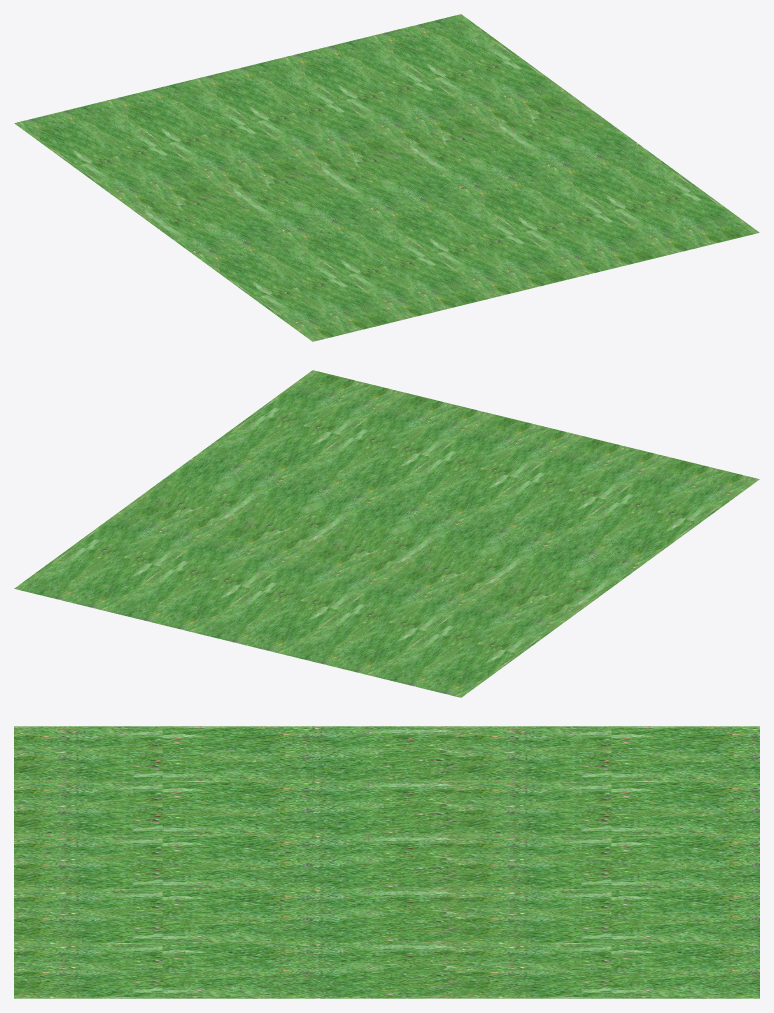
Rendered from GRASS.fbx.
3 renders of one model, top to bottom at view 1: azimuth 30°, elevation 25°; view 2: azimuth 150°, elevation 25°; view 3: azimuth 270°, elevation 25°, orthographic. The views are drawn at different scales.
Parts seen in each view (by area): view 1: pPlane1; view 2: pPlane1; view 3: pPlane1.
Boxes of the visible parts, x1,y1,x2,y2 form: pPlane1: (14, 14, 759, 341); pPlane1: (14, 370, 759, 697); pPlane1: (14, 726, 759, 998).
Bounding box in the file's own units: 65.25 × 2.96e-15 × 75.49.
